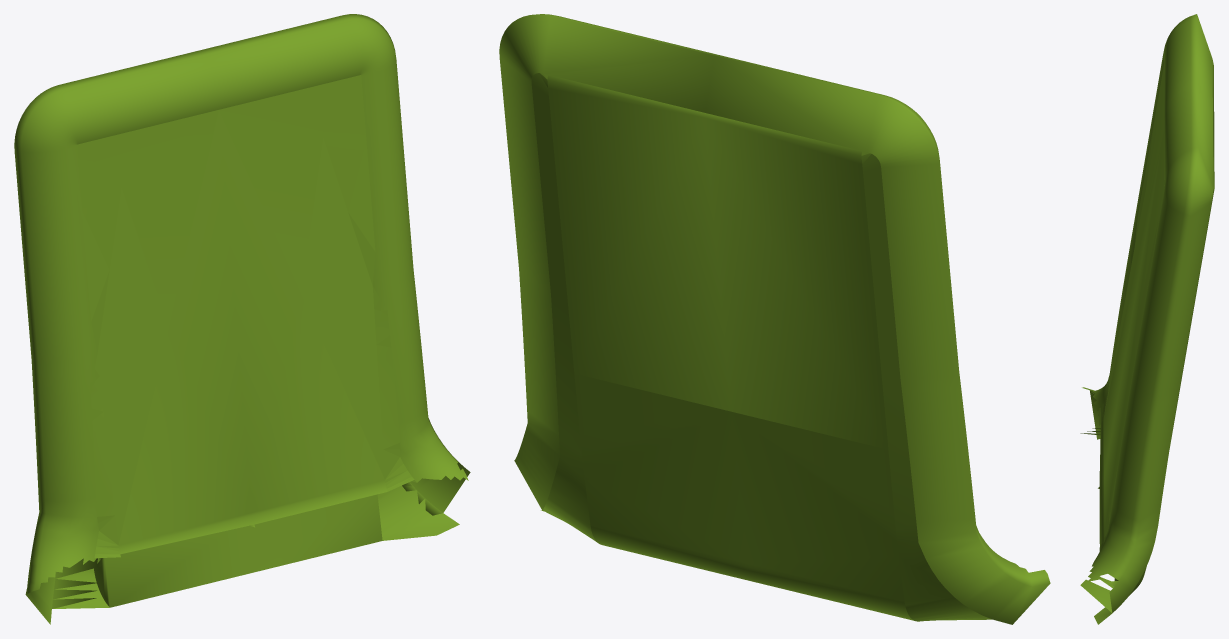
3 renders of one model, left to right at view 1: azimuth 30°, elevation 25°; view 2: azimuth 150°, elevation 25°; view 3: azimuth 270°, elevation 25°, orthographic. The views are drawn at different scales.
Bounding box in the file's own units: 0.8381 × 0.8632 × 0.2325.
